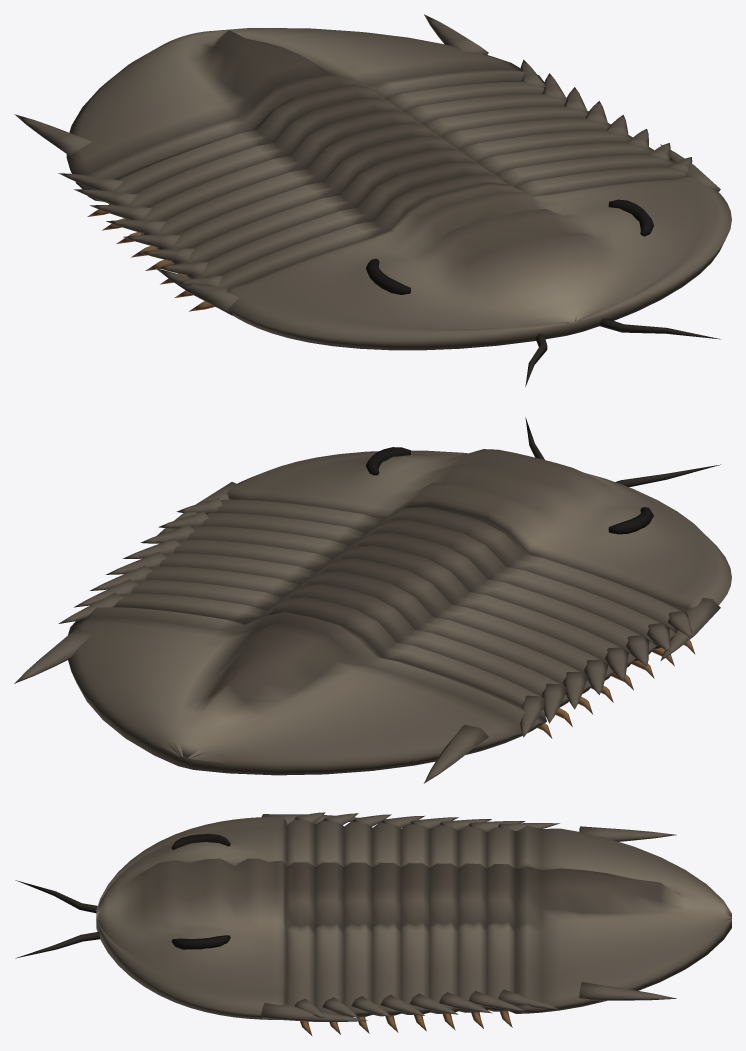
Rendered from HungioidesBohemicus.fbx.
3 views of the same model, one above another, from view 1: azimuth 30°, elevation 25°; view 2: azimuth 150°, elevation 25°; view 3: azimuth 270°, elevation 25° (orthographic). The views are drawn at different scales.
Visible parts, largest first — view 1: HungioidesBohemicus; view 2: HungioidesBohemicus; view 3: HungioidesBohemicus.
Boxes of the visible parts, box(x1,y1,x2,y2) form: HungioidesBohemicus: box(14, 14, 731, 386); HungioidesBohemicus: box(14, 417, 731, 783); HungioidesBohemicus: box(15, 812, 731, 1035).
Bounding box in the file's own units: 1.3 × 0.1825 × 1.92.
